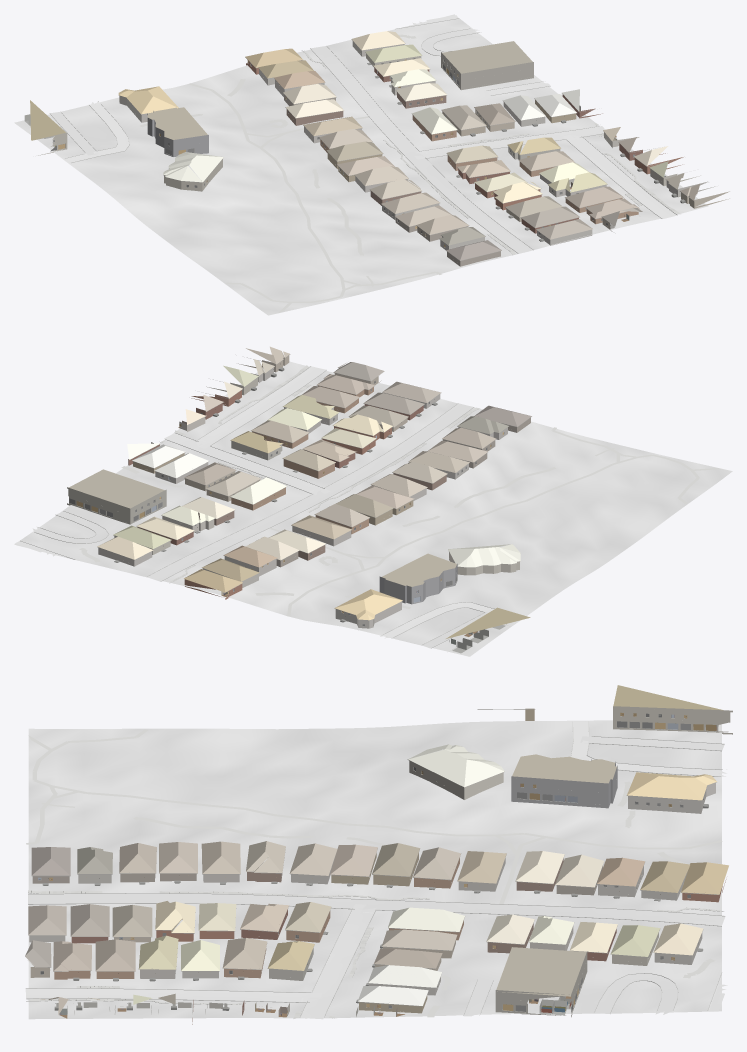
3 renders of one model, top to bottom at view 1: azimuth 30°, elevation 25°; view 2: azimuth 150°, elevation 25°; view 3: azimuth 270°, elevation 25°, orthographic. The views are drawn at different scales.
Visible parts, largest first — view 1: ground, roof, concrete, wall, roof_flat, walk, wall_com, detail, wall_stone, wall_stucco, curb; view 2: ground, roof, concrete, wall, roof_flat, walk, wall_stone, detail, wall_com, wall_stucco, curb, room; view 3: ground, roof, concrete, wall, roof_flat, walk, wall_com, wall_stone, detail, curb, wall_stucco, room (+2 smaller).
Boxes of the visible parts, <box> form: ground: <box>14,14,708,315</box>; roof: <box>118,31,700,260</box>; concrete: <box>50,28,676,253</box>; wall: <box>246,60,683,266</box>; roof_flat: <box>30,41,532,140</box>; walk: <box>140,34,680,313</box>; wall_com: <box>34,52,533,156</box>; detail: <box>51,39,722,260</box>; wall_stone: <box>119,41,715,249</box>; wall_stucco: <box>164,53,729,231</box>; curb: <box>49,18,677,253</box>; ground: <box>14,361,732,656</box>; roof: <box>97,346,531,620</box>; concrete: <box>32,366,494,648</box>; wall: <box>128,385,530,599</box>; roof_flat: <box>69,469,530,638</box>; walk: <box>79,365,721,616</box>; wall_stone: <box>98,367,507,628</box>; detail: <box>69,354,531,649</box>; wall_com: <box>67,487,457,604</box>; wall_stucco: <box>114,355,519,575</box>; curb: <box>20,366,494,648</box>; room: <box>140,420,505,653</box>; ground: <box>28,720,721,1019</box>; roof: <box>25,744,728,1014</box>; concrete: <box>25,721,726,1019</box>; wall: <box>32,708,726,1024</box>; roof_flat: <box>496,685,723,996</box>; walk: <box>26,729,722,1018</box>; wall_com: <box>495,706,732,1017</box>; wall_stone: <box>29,783,715,995</box>; detail: <box>28,709,722,1016</box>; curb: <box>25,721,726,1017</box>; wall_stucco: <box>30,761,658,1015</box>; room: <box>38,712,718,1018</box>.
Bounding box in the file's own units: 278 × 13.61 × 259.
